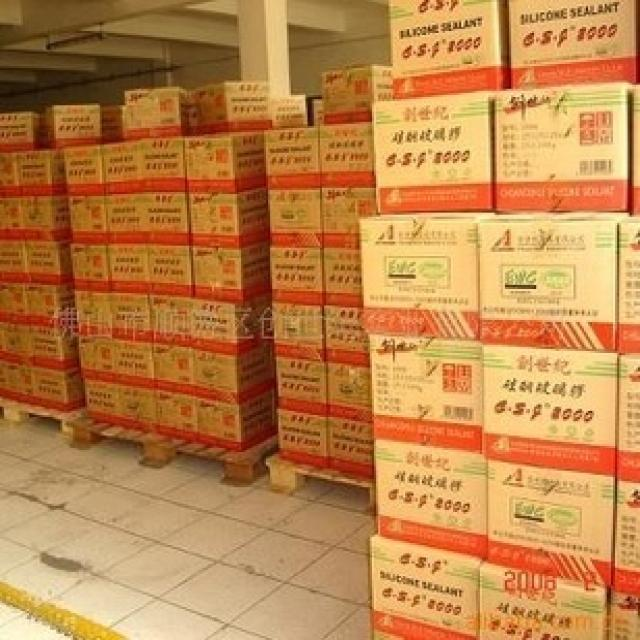box: (480, 213, 628, 351), (482, 341, 617, 475), (497, 85, 634, 213), (359, 213, 495, 337), (486, 458, 615, 586), (376, 93, 497, 213), (368, 334, 484, 452), (376, 440, 488, 562), (368, 535, 482, 640), (389, 0, 509, 99), (509, 0, 640, 89), (478, 562, 609, 640), (193, 341, 274, 405), (187, 132, 266, 192), (189, 188, 268, 248), (193, 390, 272, 450), (191, 295, 274, 351), (187, 81, 270, 134), (193, 244, 272, 299), (324, 64, 395, 122), (320, 122, 376, 190), (266, 122, 322, 186), (270, 248, 326, 308), (266, 188, 320, 248), (322, 188, 376, 248), (276, 357, 330, 417), (278, 409, 330, 471), (613, 479, 640, 597), (125, 89, 187, 140), (272, 301, 324, 361), (324, 419, 376, 479), (617, 353, 640, 481), (619, 217, 640, 353), (141, 136, 189, 194), (328, 363, 372, 425), (326, 308, 372, 367), (46, 105, 104, 149), (322, 250, 366, 308), (148, 293, 195, 347), (143, 192, 191, 244), (27, 285, 77, 332), (33, 367, 85, 411), (108, 291, 152, 343), (110, 339, 154, 390), (152, 347, 197, 396), (31, 326, 79, 370), (152, 392, 197, 438), (106, 244, 150, 291), (104, 194, 145, 244), (19, 151, 66, 194), (102, 145, 143, 194), (71, 242, 112, 291), (29, 194, 73, 239), (77, 334, 116, 384), (150, 246, 191, 293), (64, 147, 104, 194), (73, 291, 112, 337), (31, 239, 71, 283), (71, 196, 106, 244), (0, 114, 44, 151), (118, 384, 154, 429), (0, 359, 35, 405), (0, 324, 35, 367), (609, 590, 638, 640), (0, 237, 31, 283), (85, 382, 118, 423), (270, 93, 308, 128), (0, 194, 27, 239), (0, 285, 31, 324), (632, 85, 640, 217), (0, 151, 23, 194), (100, 105, 123, 140), (314, 99, 322, 124)
